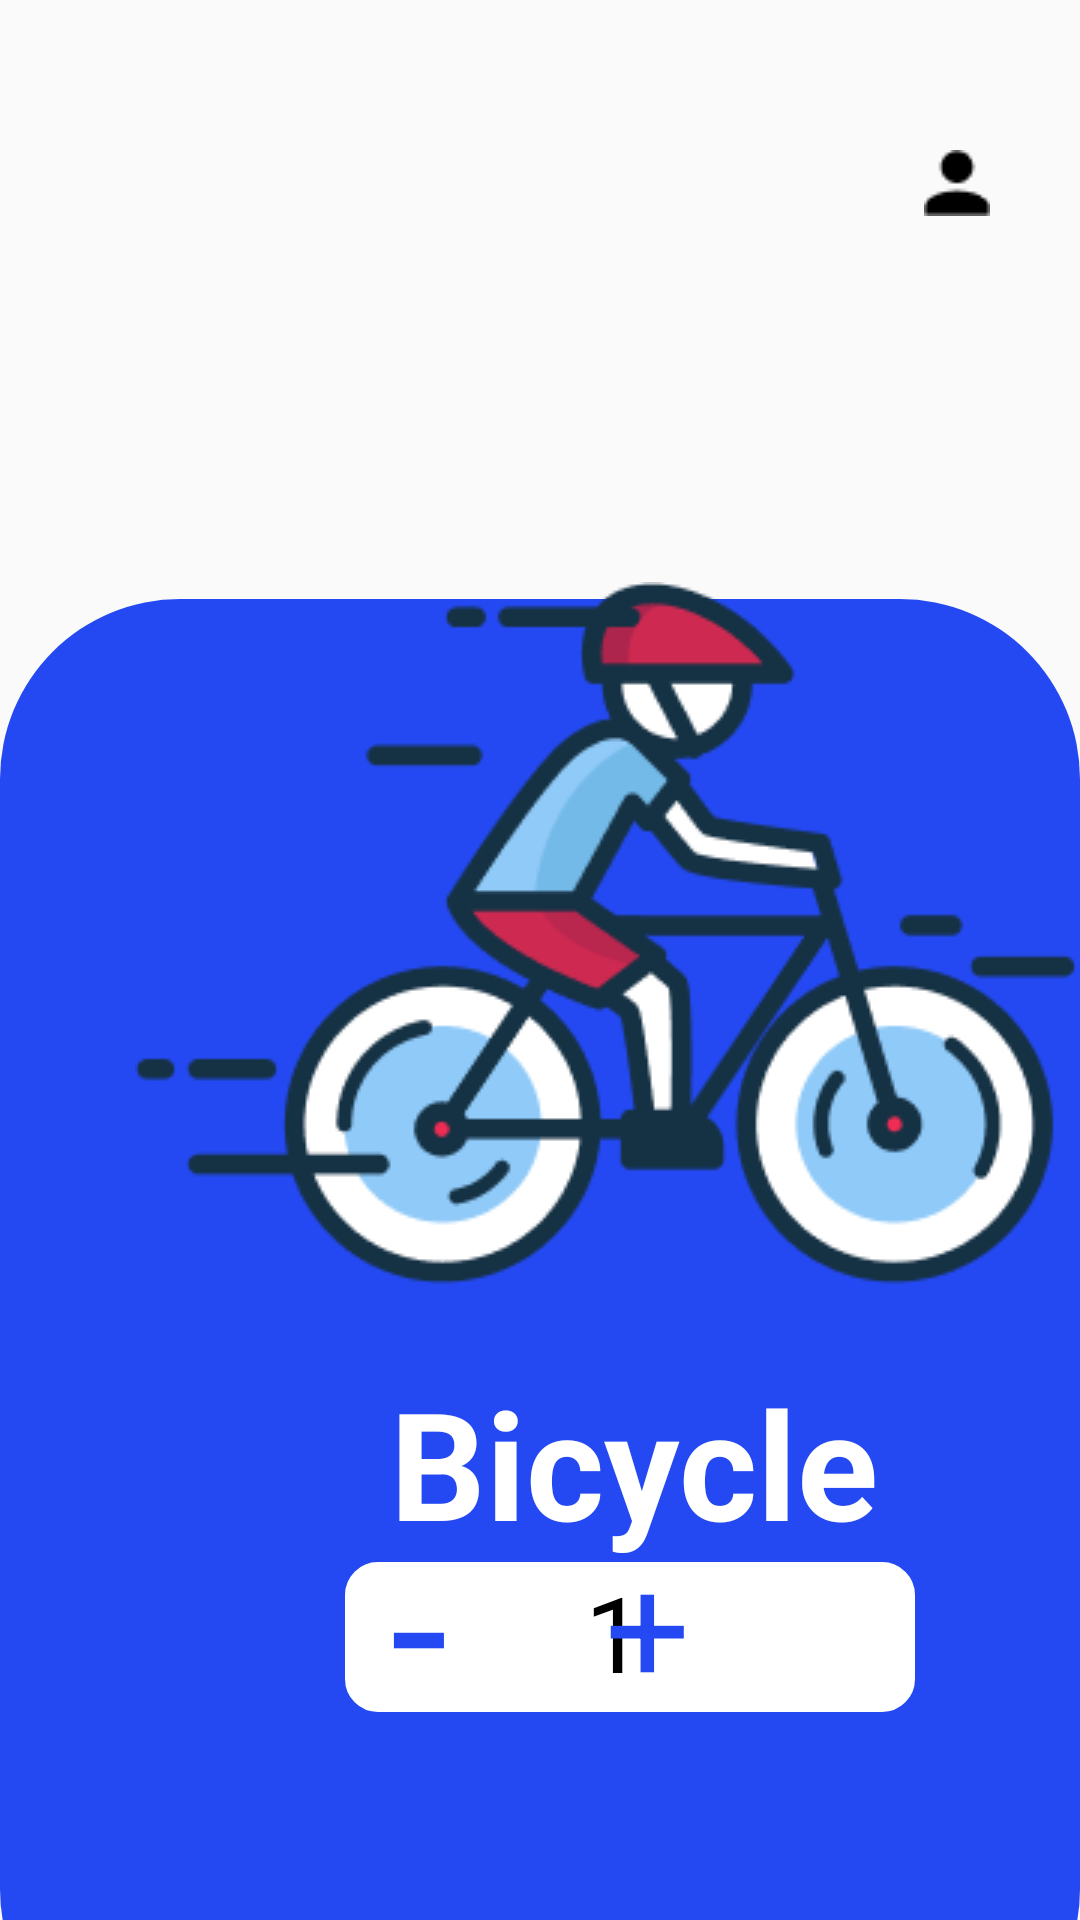

Icons on this 1080 x 1920 Android screen, each with the point to tap as [x,y]:
percon: [957,183]
